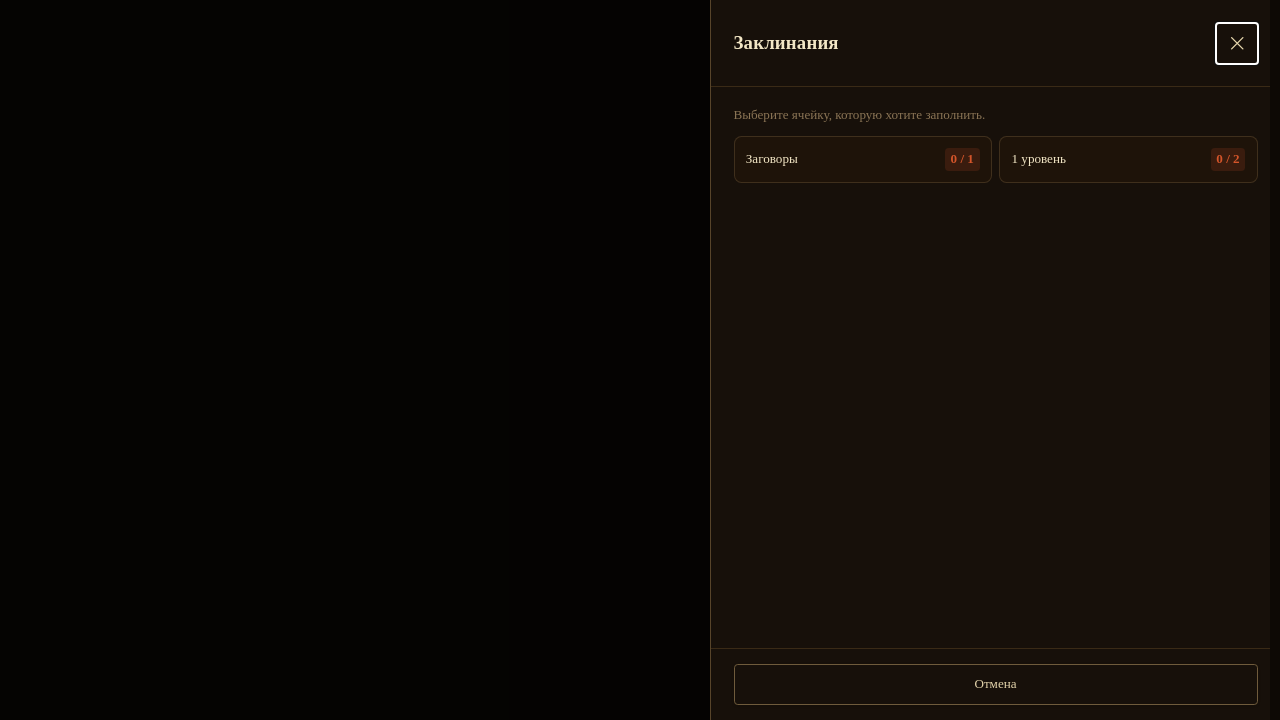
Scenario: Character spell selection › shows loading, retries errors and distinguishes an empty result
Click the button "1 уровень 0 / 2".
click(1128, 160)  # box [999,136,1258,183]
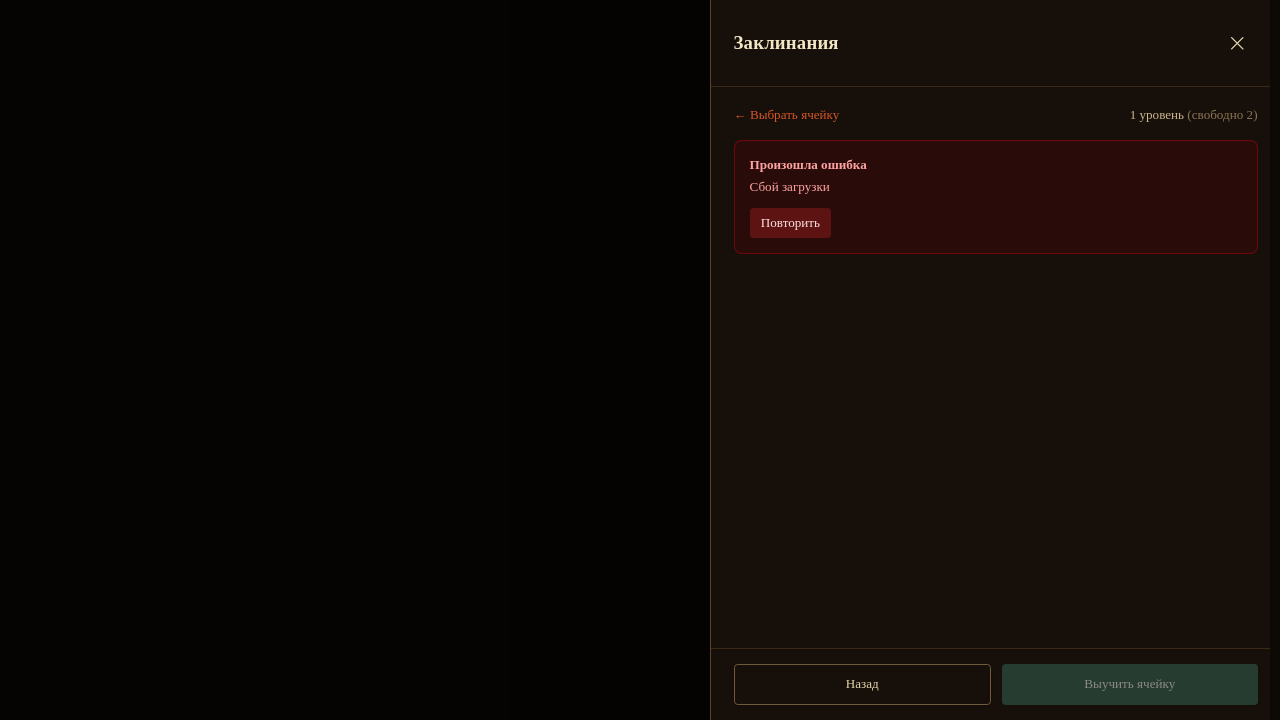
Expected: the text "Для этой ячейки нет доступных заклинаний." is not shown
Expected: the text "Сбой загрузки" is shown, [750,179,830,194]
Click the button "Повторить".
click(790, 223)  # box [750,208,831,238]
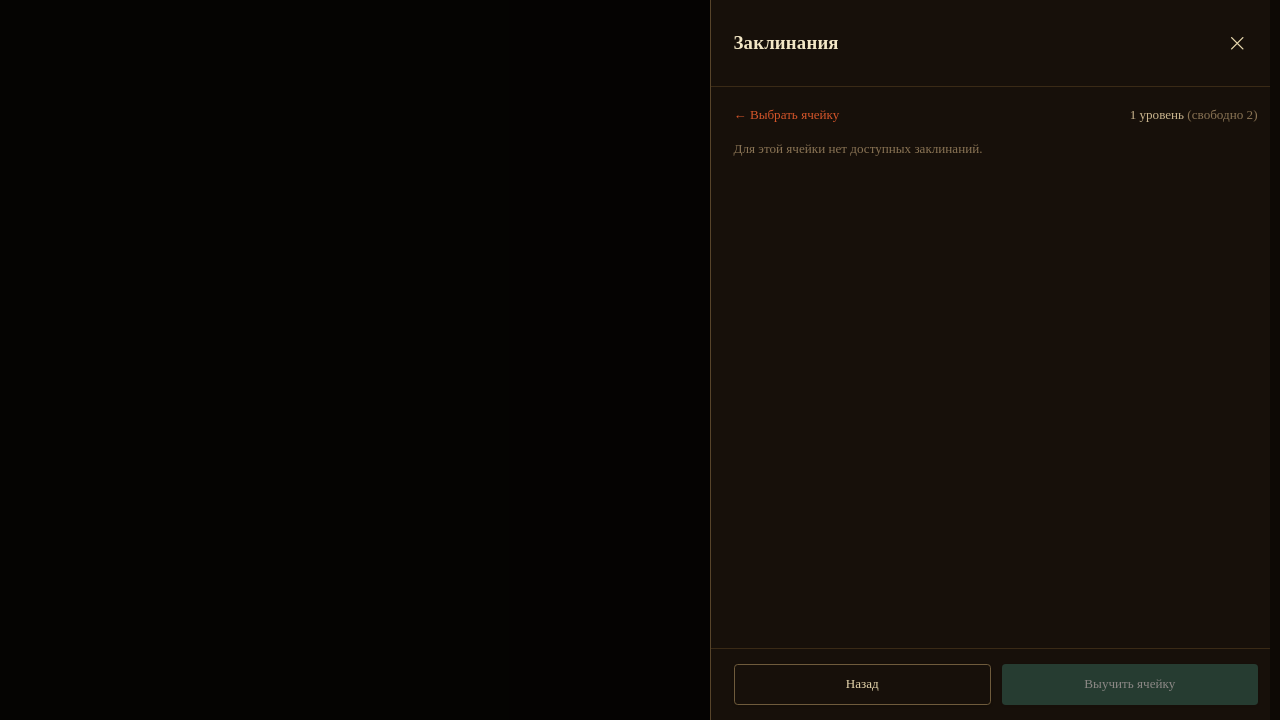
Expected: the text "Для этой ячейки нет доступных заклинаний." is shown, [734,141,982,156]
